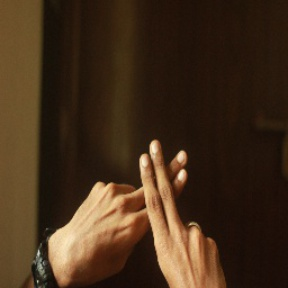F: (111, 135, 208, 259)
